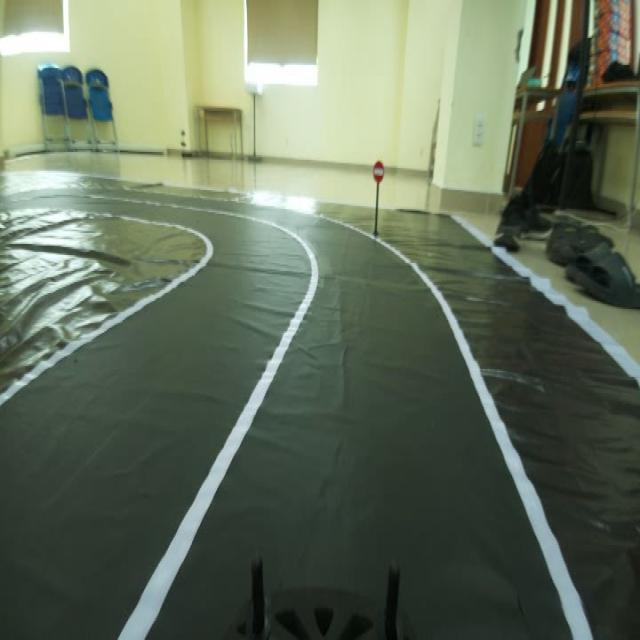no_entry: (371, 157, 390, 187)
